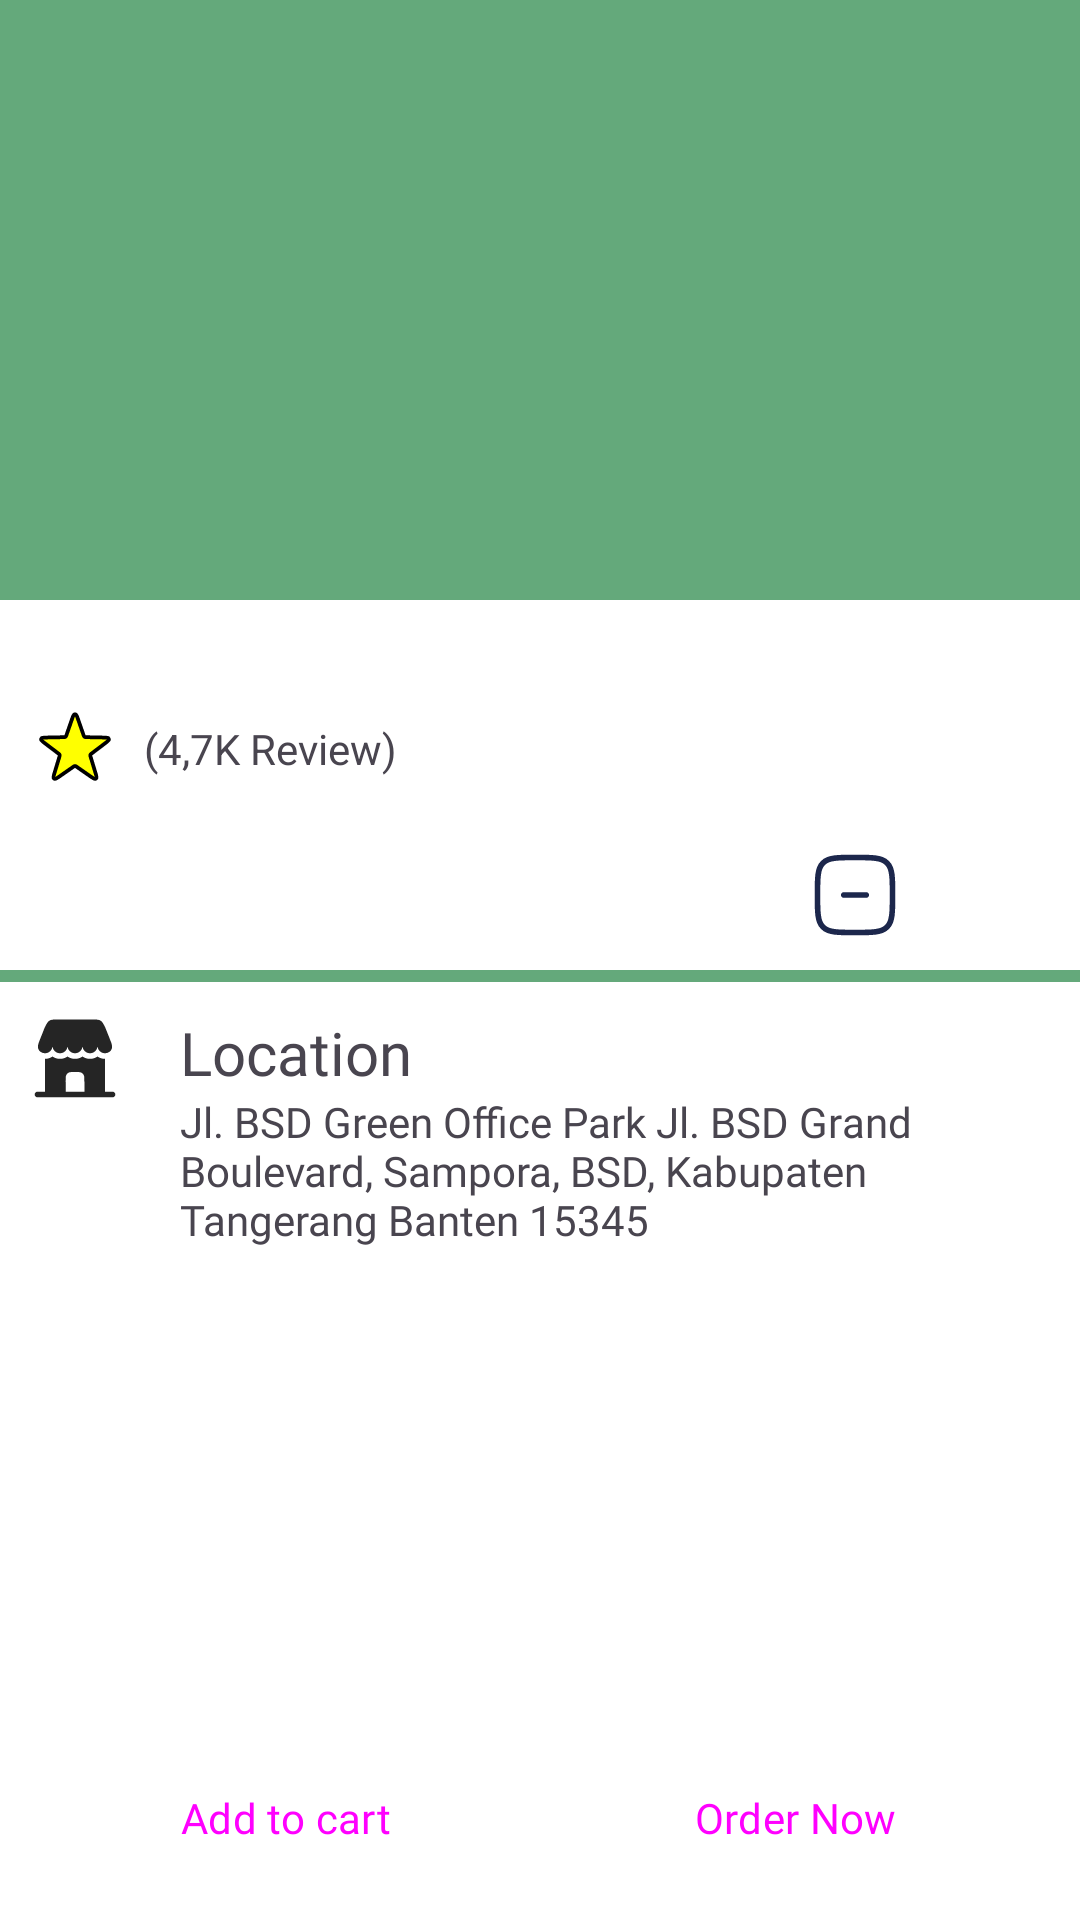

Where icons sit on this 1080w x 1920h app screen, as region(x1, y1, x2, y2):
remove: region(814, 854, 896, 936)
shop: region(34, 1019, 116, 1098)
star: region(39, 712, 111, 781)
